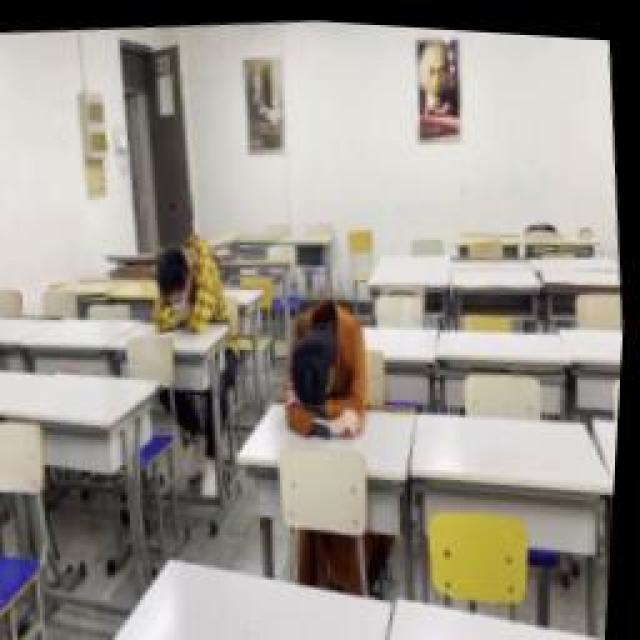sleep: (275, 285, 377, 437), (145, 227, 233, 335)
